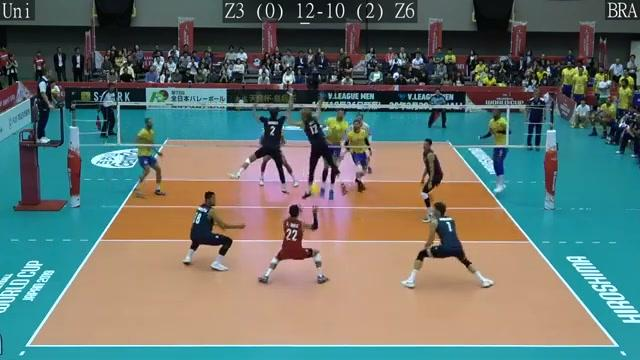ball: (310, 183, 325, 200)
